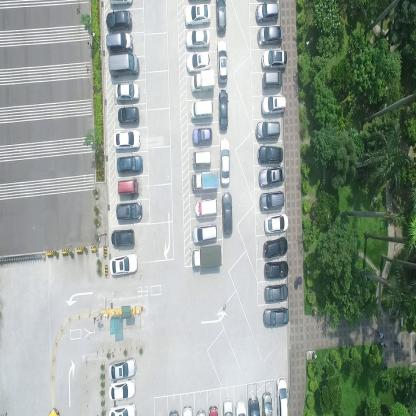car: (108, 251, 138, 277), (192, 242, 222, 268), (108, 53, 138, 78), (107, 359, 136, 384), (190, 170, 218, 193), (258, 165, 284, 189), (263, 236, 289, 260), (184, 3, 211, 26), (112, 129, 140, 151), (107, 379, 135, 401), (263, 212, 289, 235), (257, 26, 284, 48), (262, 308, 289, 330), (191, 69, 215, 93), (261, 93, 286, 116), (255, 120, 281, 142), (259, 190, 285, 212), (106, 10, 132, 32), (115, 202, 142, 223), (106, 31, 133, 52), (264, 282, 288, 305), (262, 50, 287, 72), (221, 193, 233, 238), (116, 155, 143, 175), (219, 138, 230, 187), (216, 40, 228, 84), (186, 51, 210, 73), (185, 29, 210, 50), (255, 3, 280, 24), (192, 223, 218, 243), (189, 100, 213, 121), (264, 261, 289, 281), (115, 82, 140, 102), (257, 146, 283, 165), (276, 374, 288, 415), (194, 199, 217, 220), (110, 228, 135, 247), (116, 178, 139, 198), (215, 0, 227, 35), (218, 89, 228, 131), (262, 71, 283, 91), (192, 127, 213, 146), (118, 107, 140, 125), (108, 402, 136, 416), (192, 150, 212, 168), (261, 390, 273, 415), (248, 394, 260, 416), (109, 0, 133, 8)
